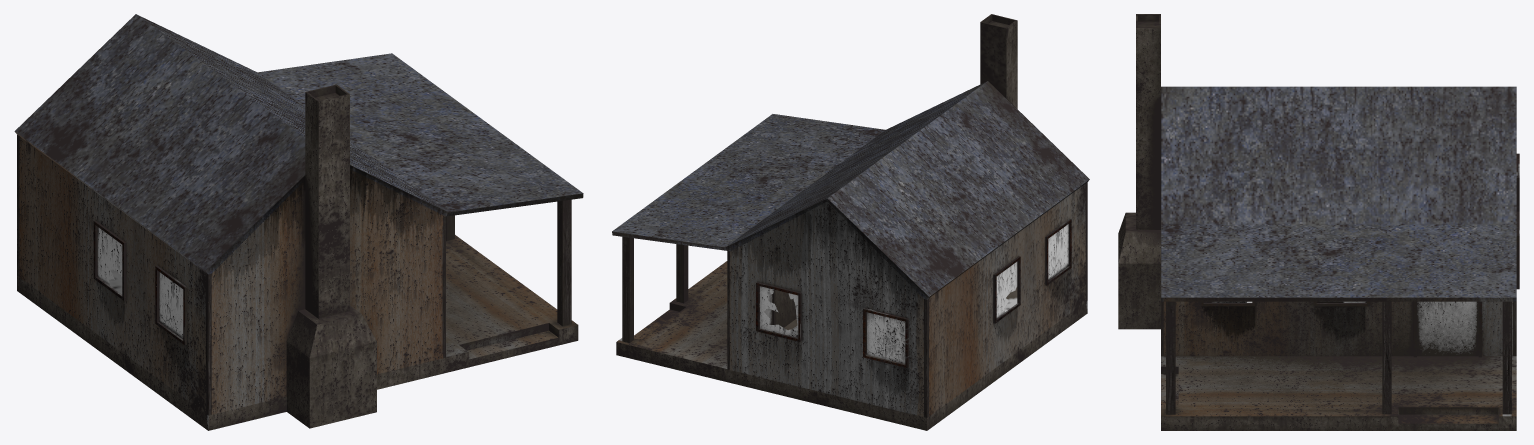
The model's file is House_02.fbx.
3 renders of one model, left to right at view 1: azimuth 30°, elevation 25°; view 2: azimuth 150°, elevation 25°; view 3: azimuth 270°, elevation 25°, orthographic. The views are drawn at different scales.
Visible parts, largest first — view 1: Cube; view 2: Cube; view 3: Cube.
Boxes of the visible parts, bbox=[...] form: Cube: bbox=[14, 14, 583, 430]; Cube: bbox=[612, 14, 1089, 430]; Cube: bbox=[1118, 14, 1519, 430].
Bounding box in the file's own units: 856 × 683 × 847.
